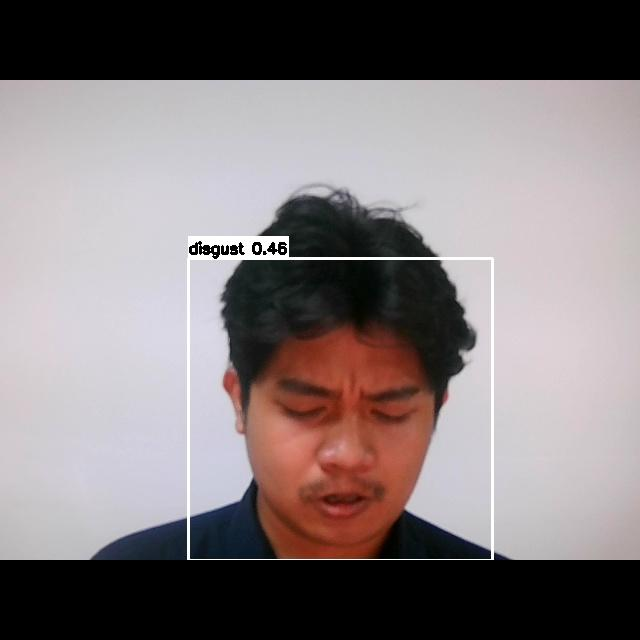Angry: (242, 356, 438, 530)
